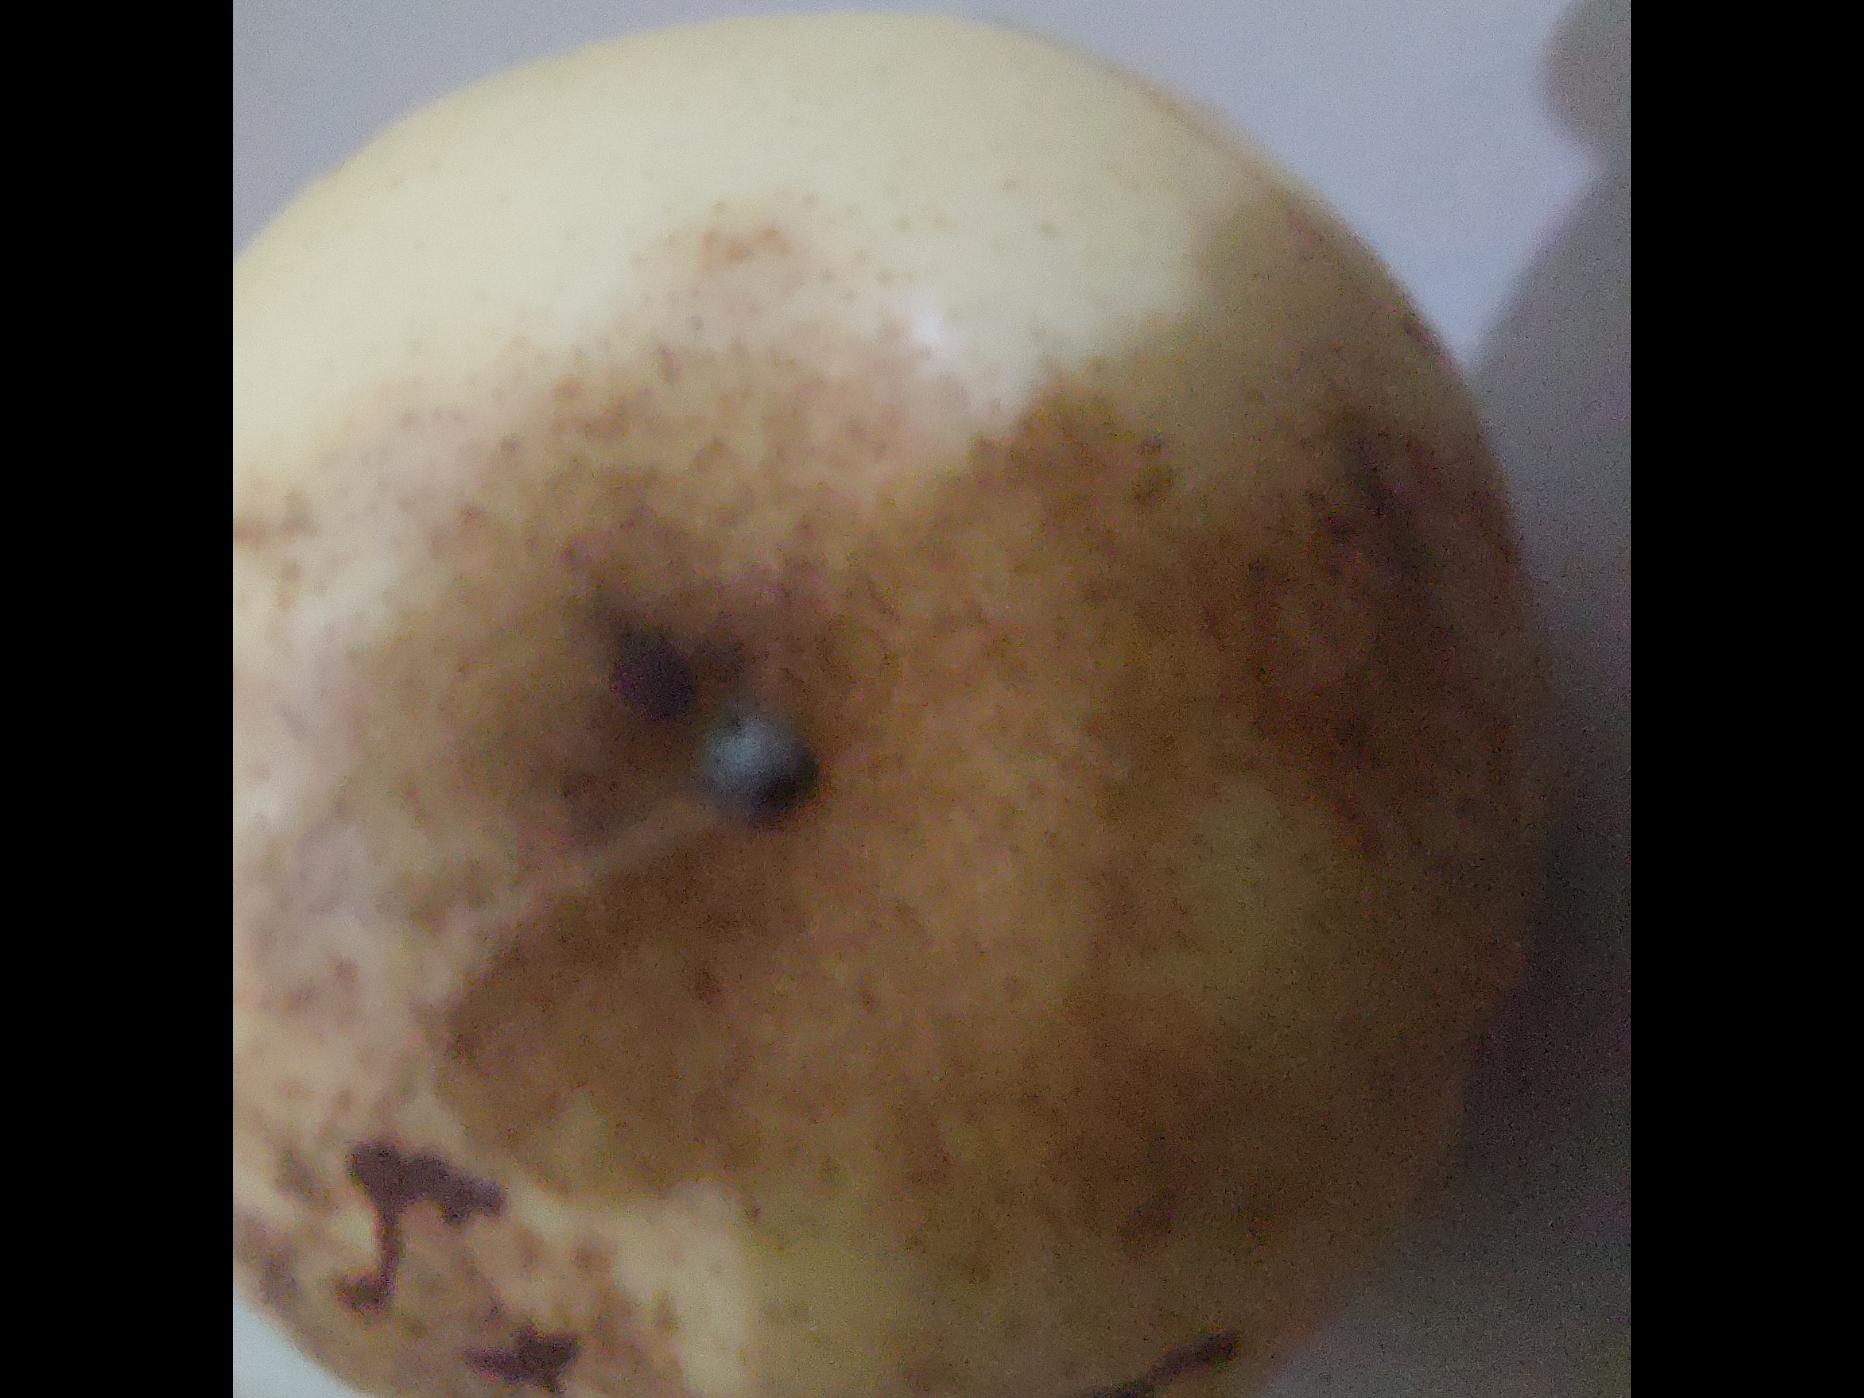Bad Pear: (233, 3, 1534, 1398)
